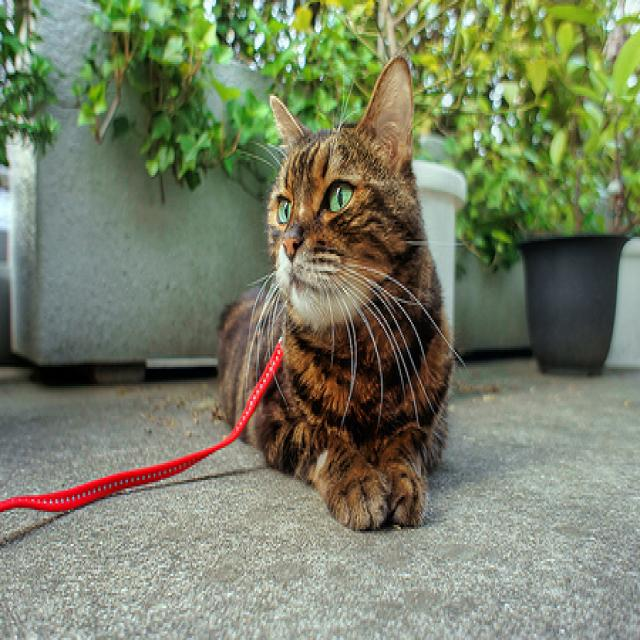Bengal: (208, 41, 469, 554)
